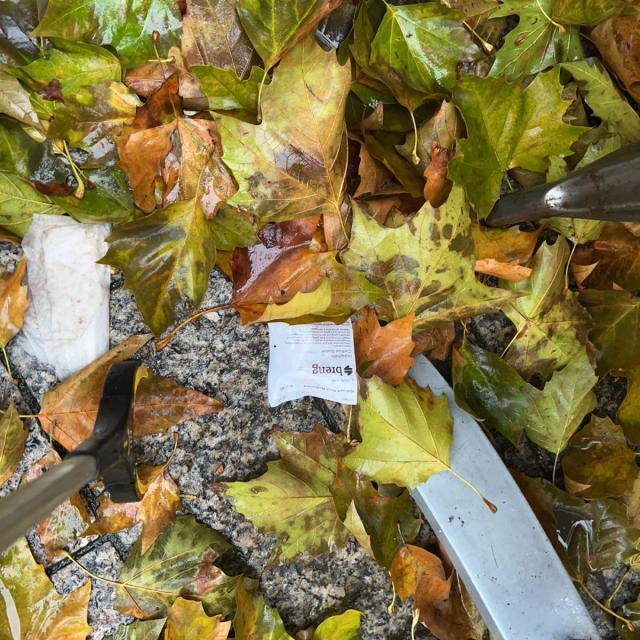Paper: (264, 312, 359, 408)
